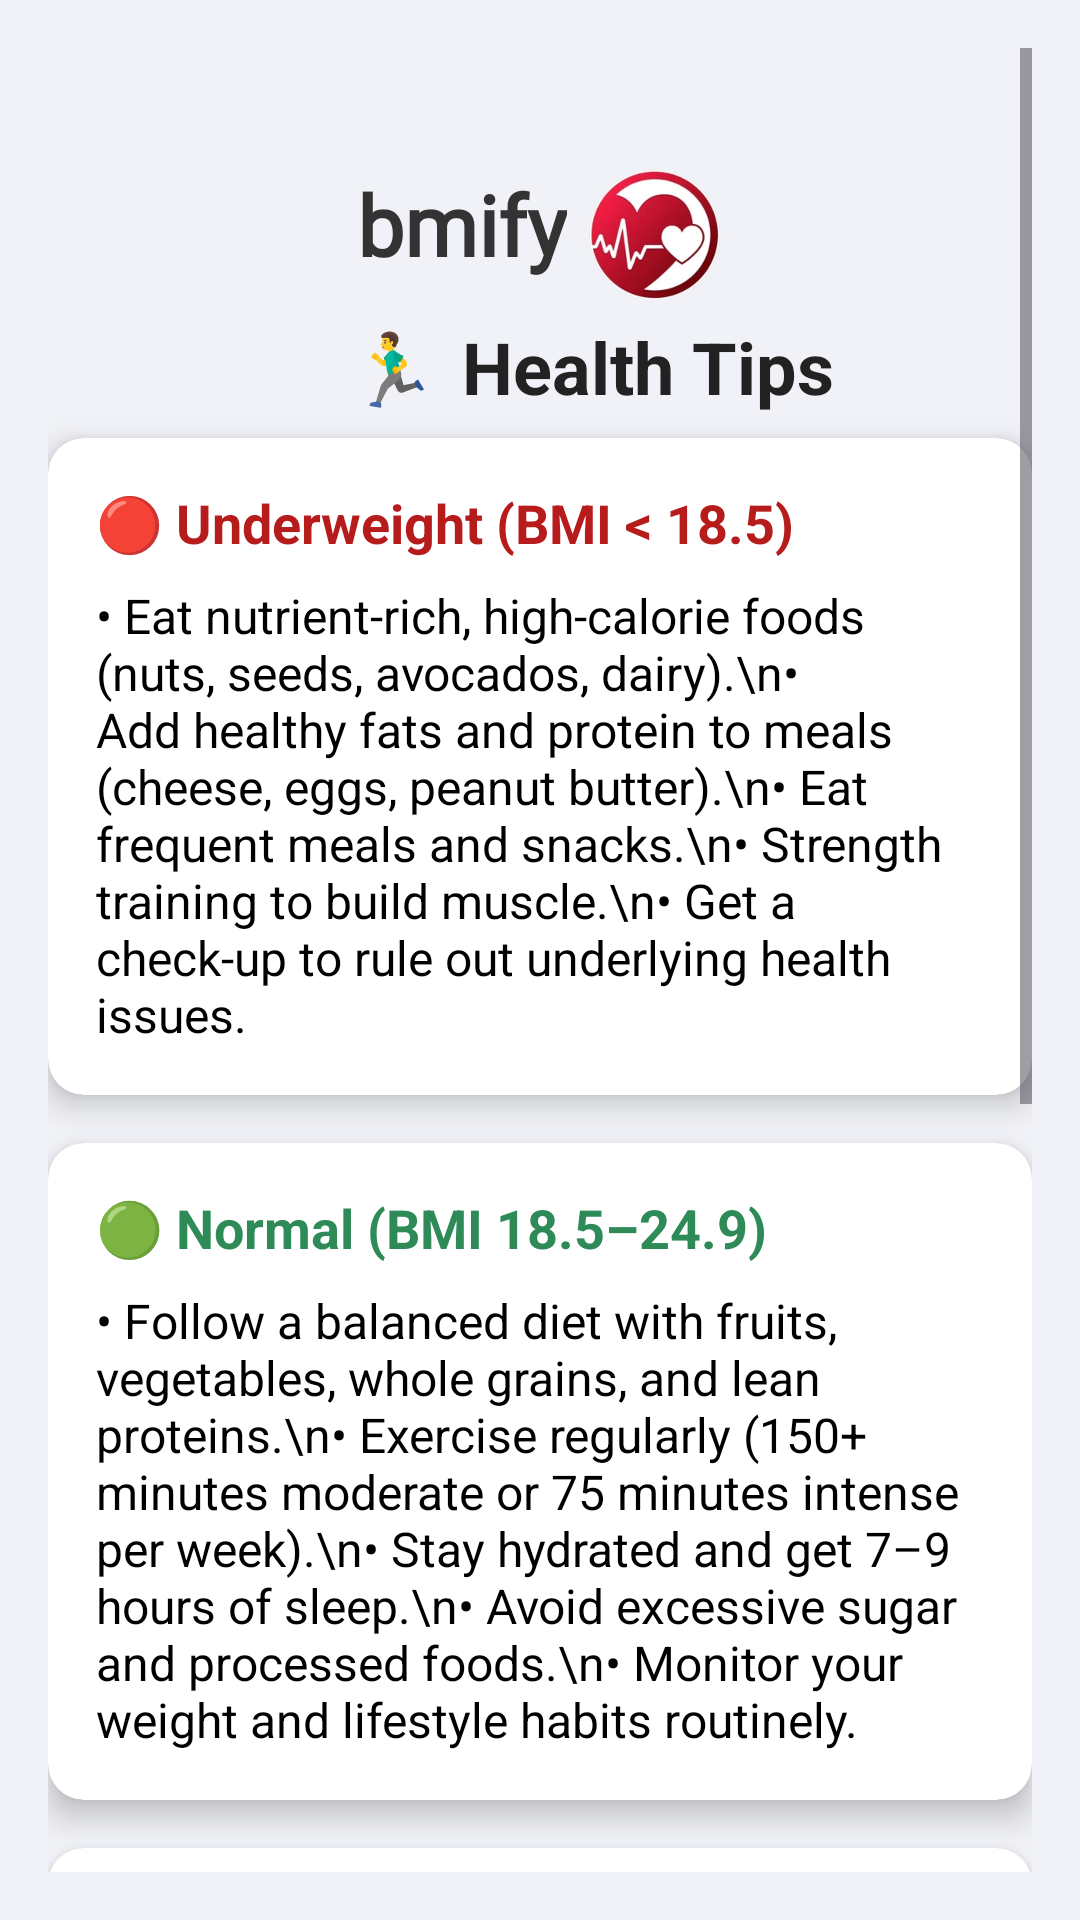

Icon bounding boxes for this 1080 x 1920 phone screenshot, format (x1, y1, x2, y2):
heart: (591, 171, 718, 299)
